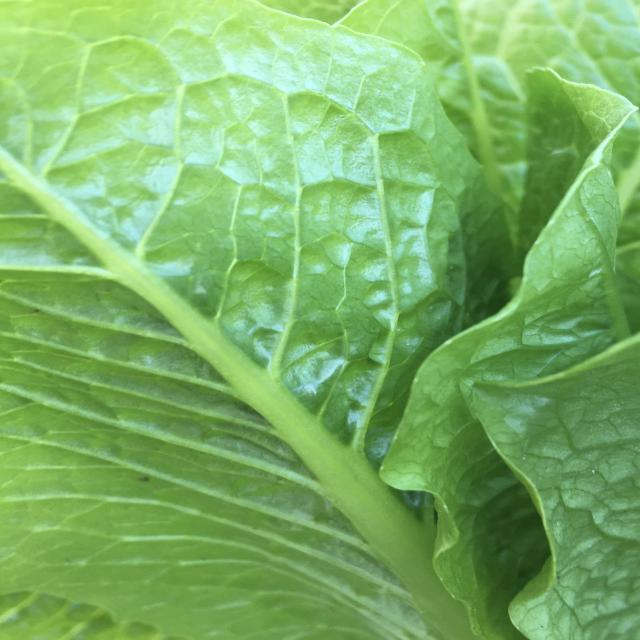Healthy Lettuce: (4, 3, 636, 636)
